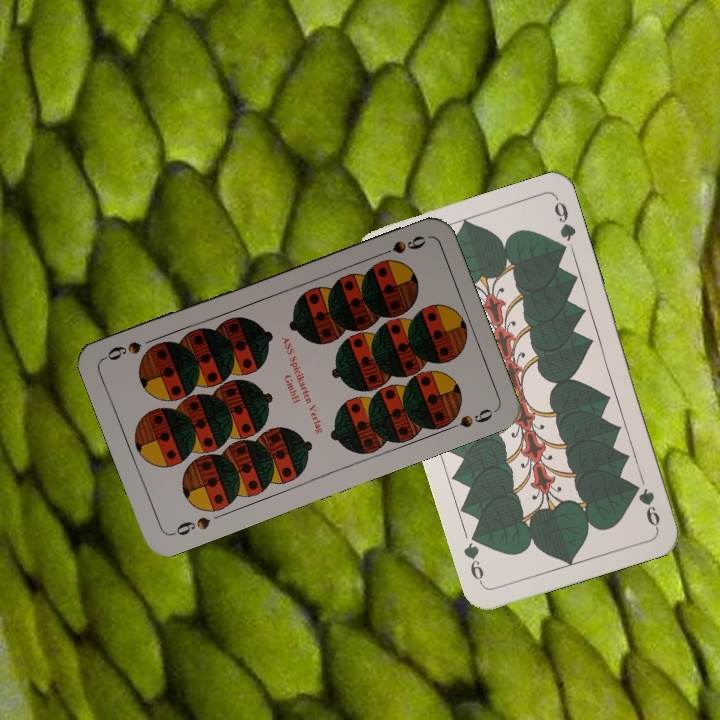G9: (634, 484, 663, 531)
S9: (372, 231, 429, 260), (167, 513, 213, 538)
